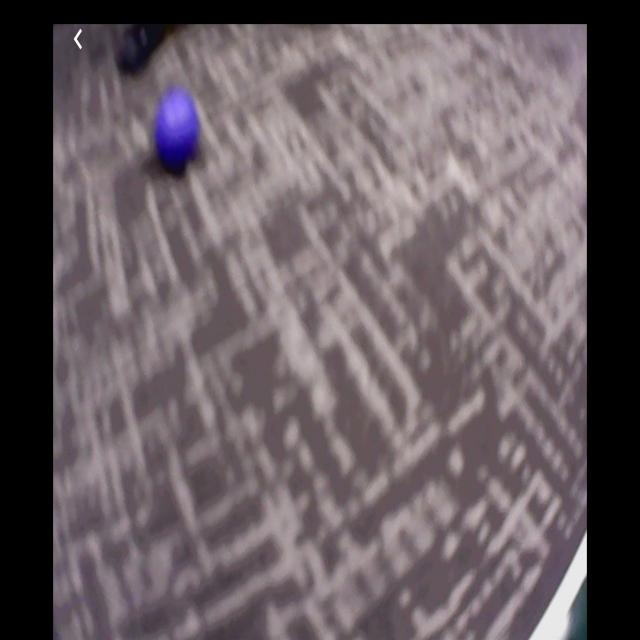ball: (154, 89, 200, 164)
